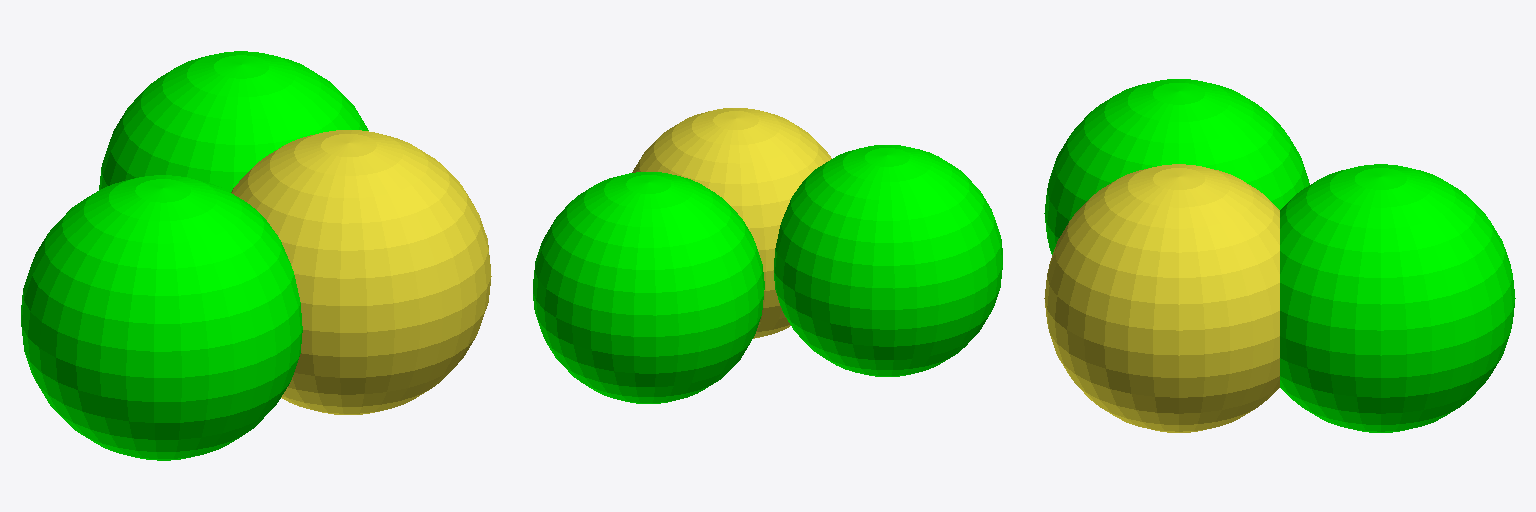
URDF robot description (spherebot):
<?xml version="1.0" encoding="utf-8"?>
<!-- =================================================================================== -->
<!-- |    This document was autogenerated by xacro from spherebot.xacro                   | -->
<!-- |    EDITING THIS FILE BY HAND IS NOT RECOMMENDED                                 | -->
<!-- =================================================================================== -->
<robot name="spherebot" xmlns:xacro="http://ros.org/wiki/xacro">
  <link name="base_link"/>
  <link name="spherebot_linkX"/>
  <link name="spherebot_linkY"/>
  <link name="spherebot_link">
    <visual>
      <origin rpy="0 0 0" xyz="0 0 0"/>
      <geometry>
        <sphere radius="0.5"/>
      </geometry>
    </visual>
    <collision>
      <geometry>
        <sphere radius="0.5"/>
      </geometry>
    </collision>
  </link>
  <joint name="spherebot_x_joint" type="prismatic">
    <origin rpy="0 0 0" xyz="0 0 0"/>
    <parent link="base_link"/>
    <child link="spherebot_linkX"/>
    <axis xyz="1 0 0"/>
    <limit effort="0" lower="-20.0" upper="20.0" velocity="2.0"/>
  </joint>
  <joint name="spherebot_y_joint" type="prismatic">
    <origin rpy="0 0 0" xyz="0 0 0"/>
    <parent link="spherebot_linkX"/>
    <child link="spherebot_linkY"/>
    <axis xyz="0 1 0"/>
    <limit effort="0" lower="-20.0" upper="20.0" velocity="2.0"/>
  </joint>
  <joint name="spherebot_joint" type="fixed">
    <origin rpy="0 0 0" xyz="0 0 0"/>
    <parent link="spherebot_linkY"/>
    <child link="spherebot_link"/>
  </joint>
  <link name="test_base_link"/>
  <link name="test_sphere_link">
    <visual>
      <origin rpy="0 0 0" xyz="0 0 0"/>
      <geometry>
        <sphere radius="0.5"/>
      </geometry>
      <material name="Green">
        <color rgba="0 1.0 0.0 1.0"/>
      </material>
    </visual>
    <collision>
      <geometry>
        <sphere radius="0.5"/>
      </geometry>
    </collision>
  </link>
  <joint name="test_sphere_joint" type="fixed">
    <origin rpy="0 0 0" xyz="0 0 0"/>
    <parent link="test_base_link"/>
    <child link="test_sphere_link"/>
  </joint>
  <link name="test_sphere_link2">
    <visual>
      <origin rpy="0 0 0" xyz="0 0 0"/>
      <geometry>
        <sphere radius="0.5"/>
      </geometry>
      <material name="Green">
        <color rgba="0 1.0 0.0 1.0"/>
      </material>
    </visual>
    <collision>
      <geometry>
        <sphere radius="0.5"/>
      </geometry>
    </collision>
  </link>
  <joint name="test_sphere_joint2" type="fixed">
    <origin rpy="0 0 0" xyz="-0.75 0 0"/>
    <parent link="test_base_link"/>
    <child link="test_sphere_link2"/>
  </joint>
  <link name="test_sphere_link3">
    <visual>
      <origin rpy="0 0 0" xyz="0 0 0"/>
      <geometry>
        <sphere radius="0.5"/>
      </geometry>
      <material name="Green">
        <color rgba="0 1.0 0.0 1.0"/>
      </material>
    </visual>
    <collision>
      <geometry>
        <sphere radius="0.5"/>
      </geometry>
    </collision>
  </link>
  <joint name="test_sphere_joint3" type="fixed">
    <origin rpy="0 0 0" xyz="0 0.75 0"/>
    <parent link="test_base_link"/>
    <child link="test_sphere_link3"/>
  </joint>
  <joint name="attach_sphere_joint" type="fixed">
    <origin rpy="0 0 0" xyz="0 0 0"/>
    <parent link="base_link"/>
    <child link="test_base_link"/>
  </joint>
  <link name="no_geom_link"/>
  <joint name="no_geom_joint" type="fixed">
    <origin rpy="0 0 0" xyz="0.5 -0.5 0"/>
    <parent link="spherebot_link"/>
    <child link="no_geom_link"/>
  </joint>
</robot>

--- What the picture shows (computed from the rendered views, not written in the file) ---
Views: 3 orthographic renders of the robot side by side, from view 1: azimuth 30°, elevation 25°; view 2: azimuth 150°, elevation 25°; view 3: azimuth 270°, elevation 25°.
Robot: spherebot — 9 links, 8 joints (2 prismatic, 6 fixed); root link base_link; default pose: every joint at zero.
Links seen in each view (by area): view 1: test_sphere_link2, spherebot_link, test_sphere_link3; view 2: test_sphere_link3, test_sphere_link2, spherebot_link; view 3: spherebot_link, test_sphere_link3, test_sphere_link2.
Boxes of the visible links, x1,y1,x2,y2 form: test_sphere_link2: [21, 175, 302, 460]; spherebot_link: [231, 130, 491, 414]; test_sphere_link3: [99, 51, 368, 192]; test_sphere_link3: [533, 172, 764, 403]; test_sphere_link2: [774, 145, 1002, 376]; spherebot_link: [632, 108, 831, 338]; spherebot_link: [1044, 164, 1279, 432]; test_sphere_link3: [1280, 164, 1515, 432]; test_sphere_link2: [1044, 79, 1309, 254].
Size in the robot's own frame: 1.75 by 1.75 by 1 metres.
Geometry: primitives only (box / cylinder / sphere), no mesh files.